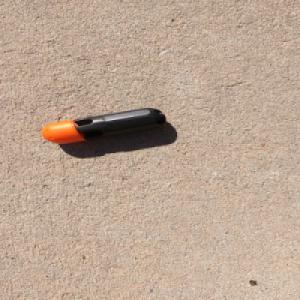PlasticPart: (38, 105, 168, 144)
